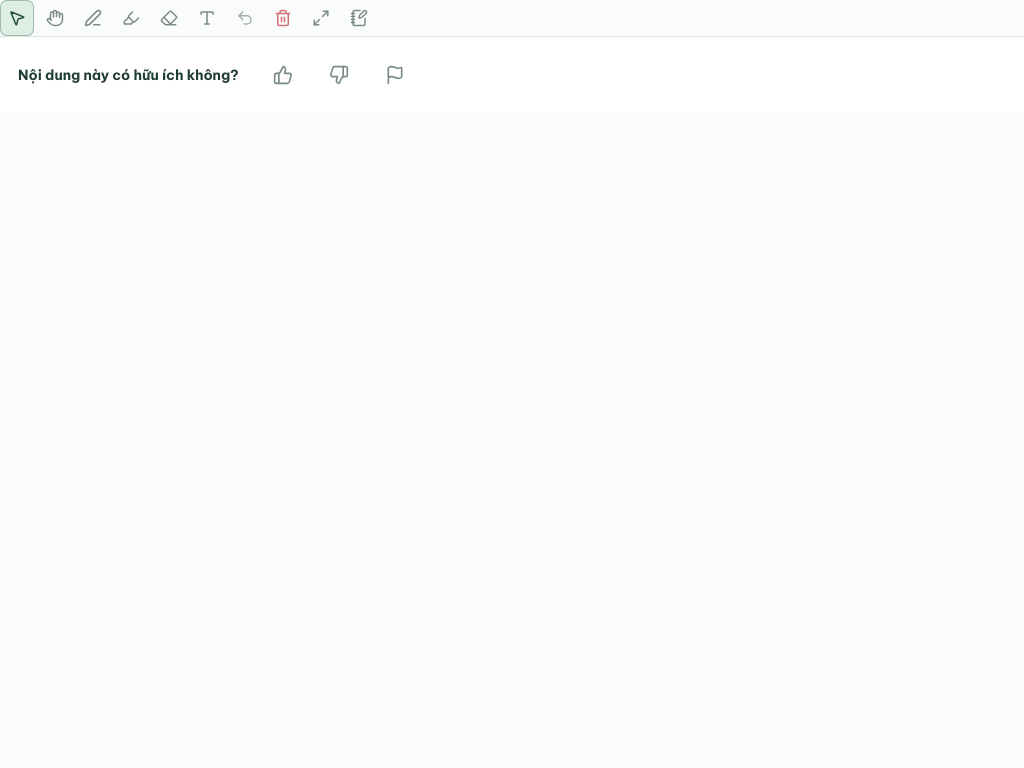
Test: retains report fields when sending fails and permits retry
The image size is (1024, 768).
Click the button named "Báo cáo bài học".
click(395, 75)  # box x1=375 y1=55 x2=415 y2=95
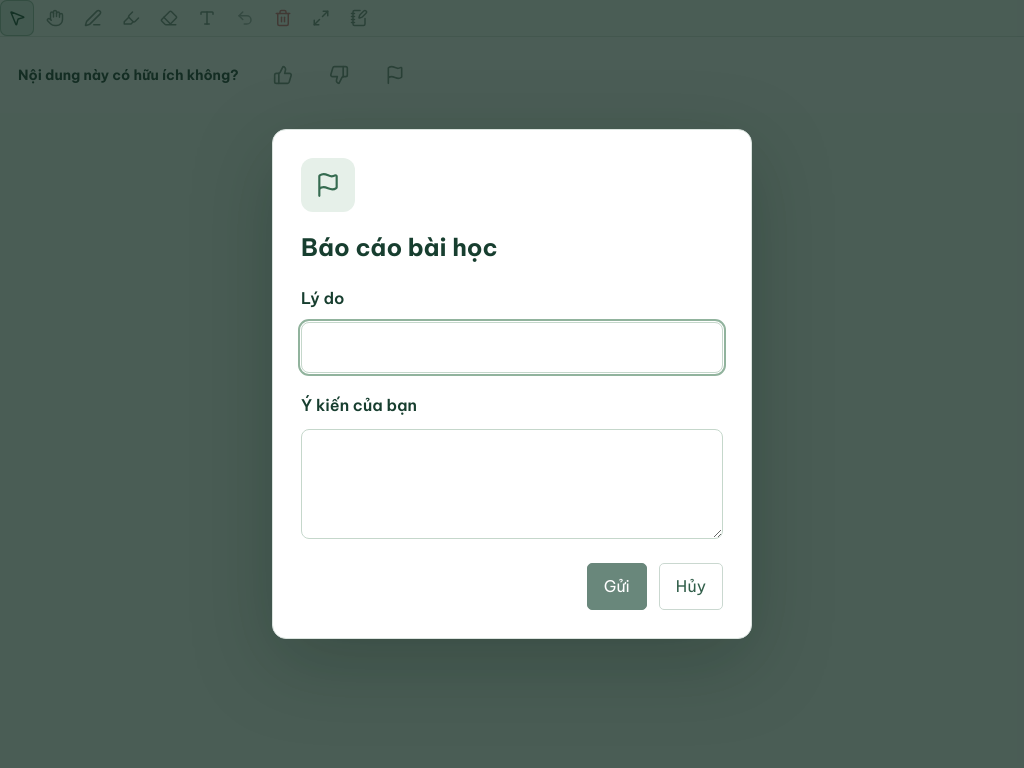
Type "Trang bị lỗi" into the field labelled "Lý do".
click(512, 347); type("Trang bị lỗi")  # box x1=301 y1=322 x2=723 y2=373
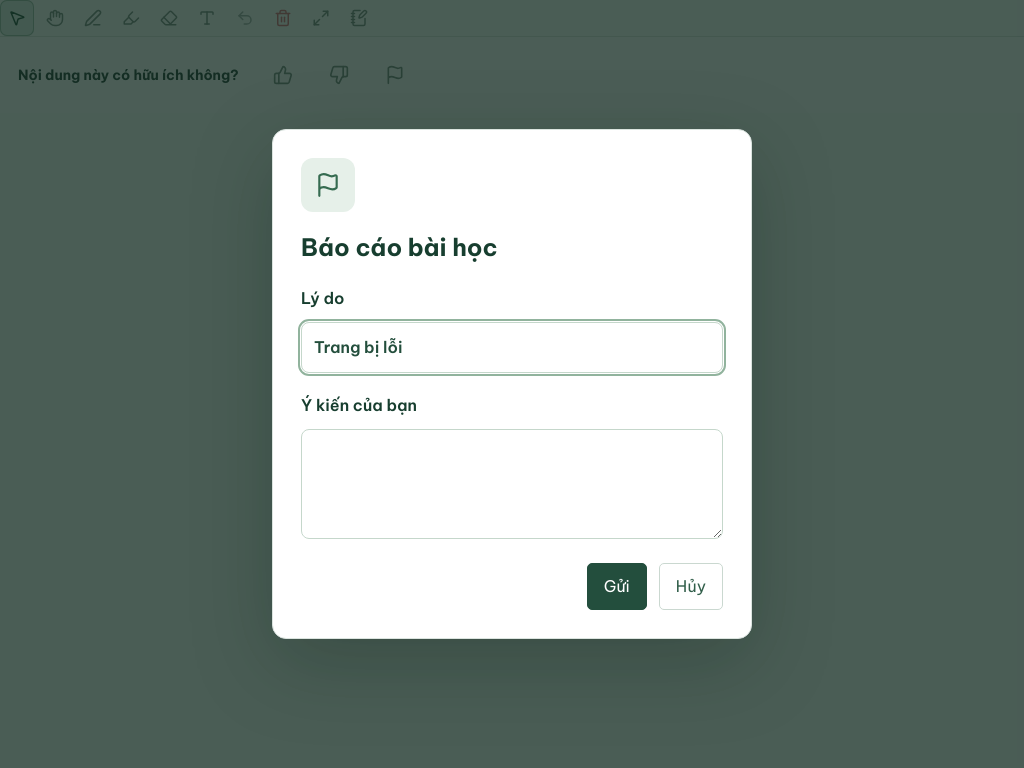
Click the button "Gửi".
click(617, 587)  # box x1=587 y1=563 x2=647 y2=610
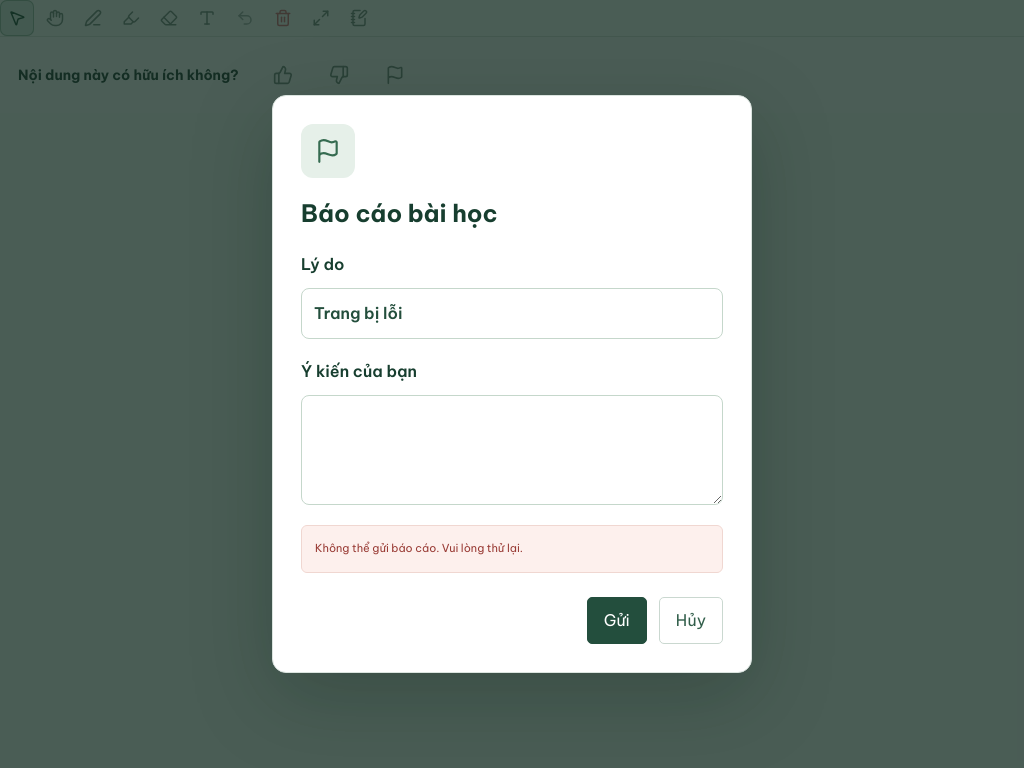
Expected: the message shows "Không thể gửi báo cáo", x1=315 y1=541 x2=523 y2=555
Click the button "Gửi".
click(617, 620)  # box x1=587 y1=597 x2=647 y2=644
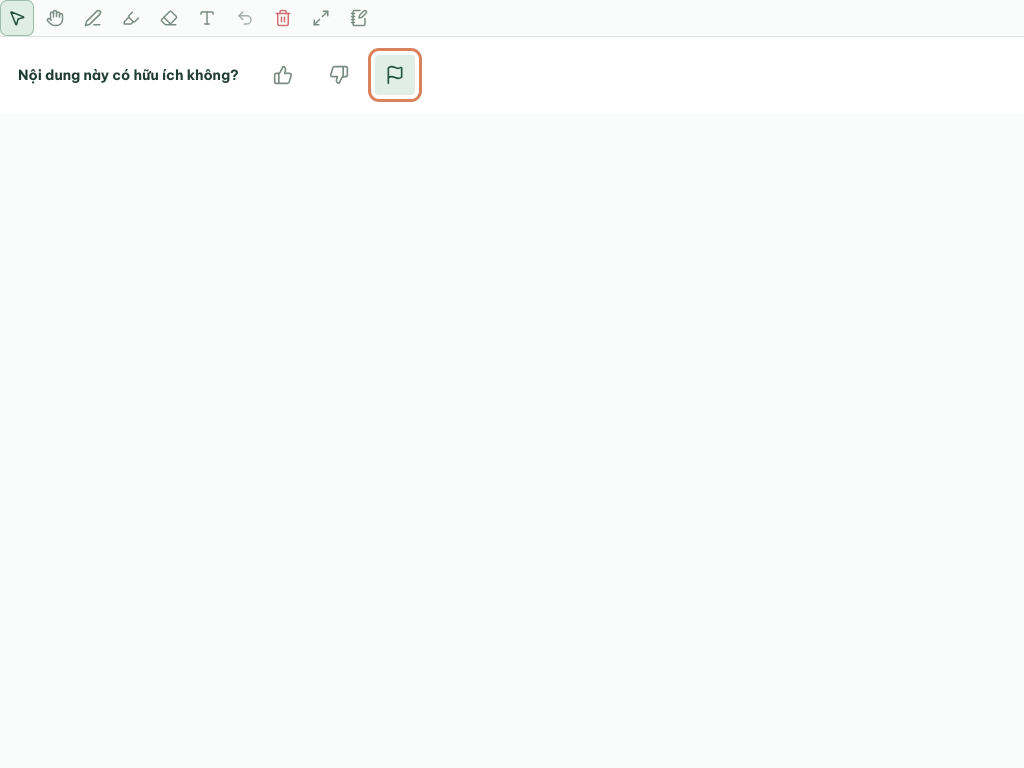
Expected: the dialog is gone
